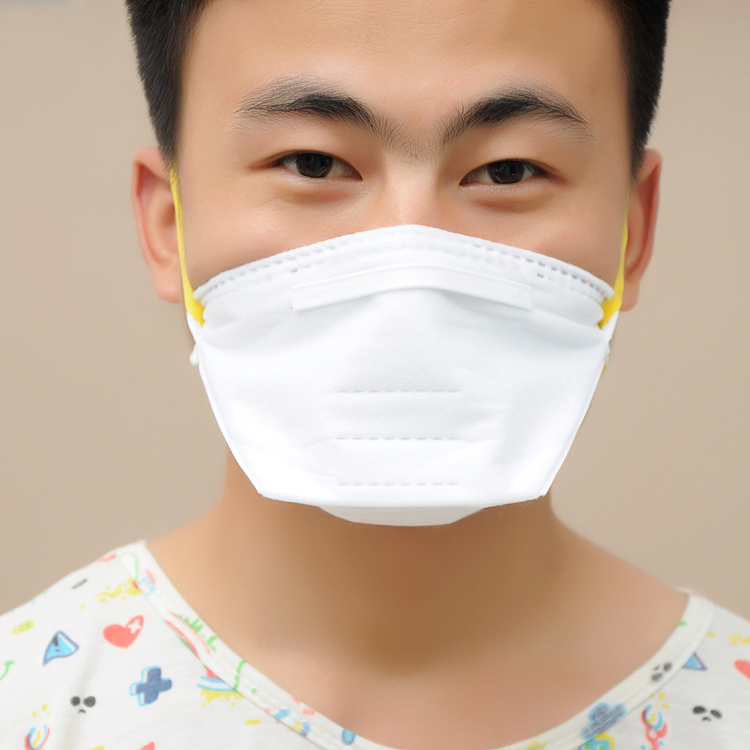face_mask: (188, 0, 630, 518)
